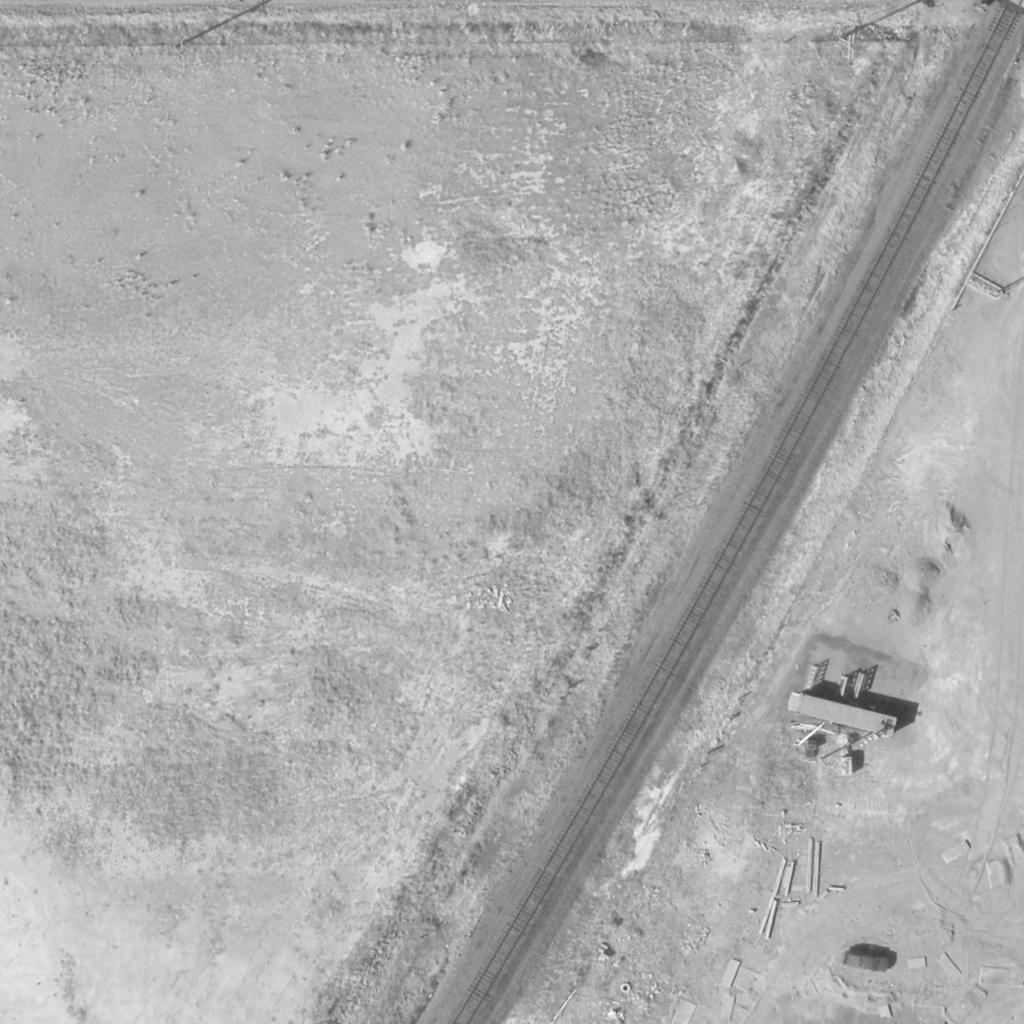vehicle: (843, 951, 893, 975)
